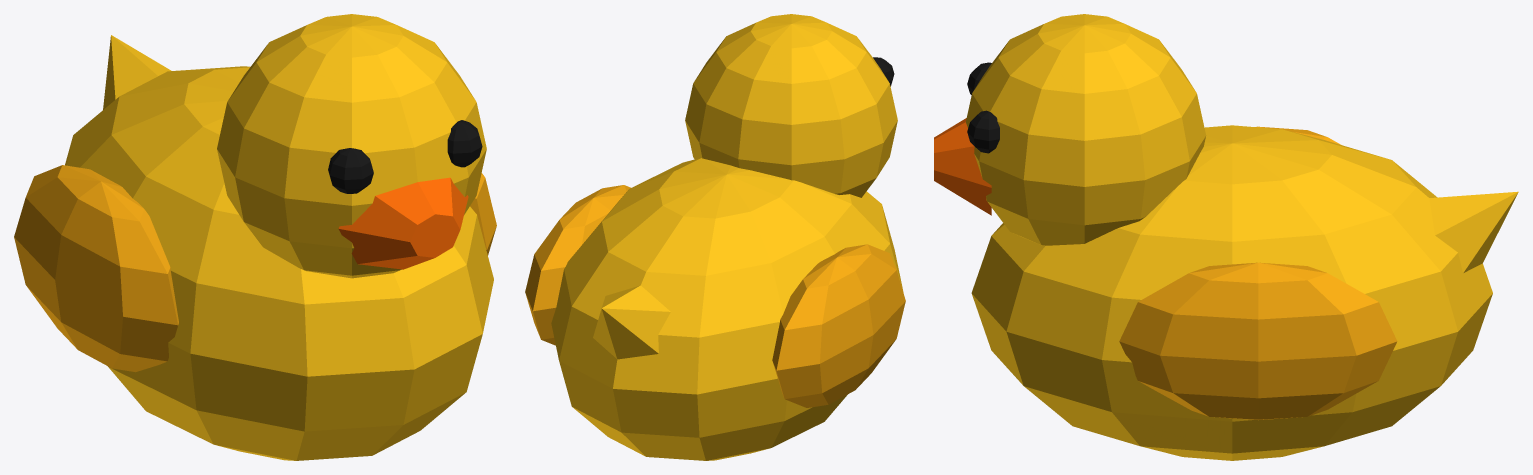
Rendered from ordek.glb.
The picture shows the model from 3 angles, left to right: view 1: azimuth 30°, elevation 25°; view 2: azimuth 150°, elevation 25°; view 3: azimuth 270°, elevation 25°; orthographic projection. The views are drawn at different scales.
Visible parts, largest first — view 1: ordek; view 2: ordek; view 3: ordek.
Boxes of the visible parts, left/top/right/bottom form: ordek: left=14, top=14, right=496, bottom=460; ordek: left=525, top=14, right=905, bottom=460; ordek: left=934, top=14, right=1518, bottom=460.
Size of the model in its own units: 0.6721 by 0.7421 by 0.9418.
